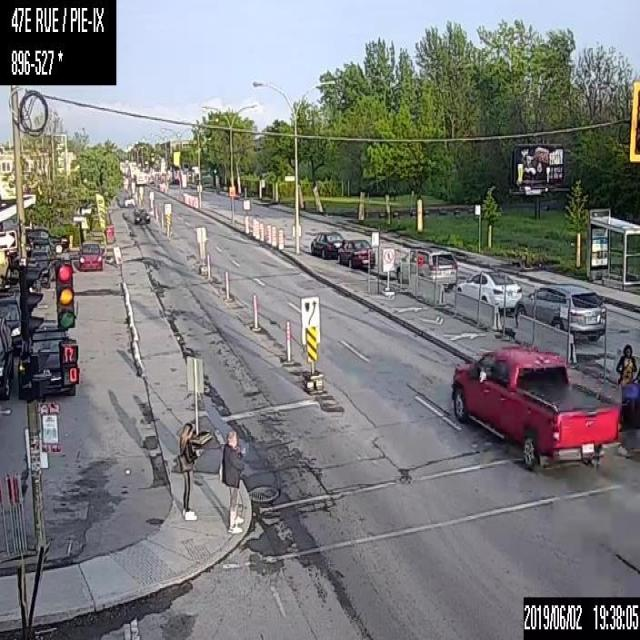construction: (285, 319, 291, 361), (252, 294, 257, 329), (277, 227, 284, 250), (264, 223, 271, 246), (270, 224, 277, 247), (224, 268, 229, 299), (205, 254, 211, 278), (243, 213, 249, 234), (258, 222, 264, 243), (160, 213, 164, 228), (154, 208, 157, 221)
pedestrian: (218, 429, 245, 532), (178, 423, 201, 520), (616, 344, 636, 403)
vehicle: (451, 342, 619, 470), (513, 282, 606, 341), (18, 326, 75, 395), (456, 270, 522, 311), (398, 248, 458, 290), (0, 288, 22, 352), (0, 263, 41, 296), (24, 226, 70, 254), (0, 316, 14, 399), (338, 239, 374, 269), (28, 248, 55, 284), (310, 231, 347, 257), (77, 240, 103, 268), (30, 234, 55, 253), (133, 207, 150, 224), (123, 192, 135, 206)
